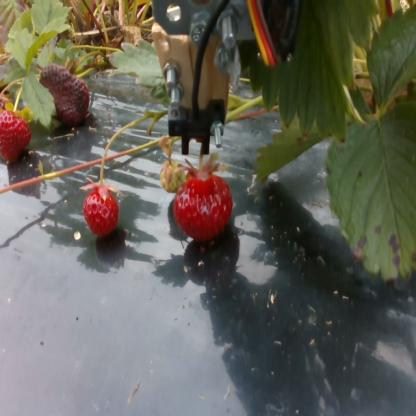ripe: (172, 168, 230, 245), (86, 187, 118, 239), (2, 104, 30, 160)
unripe: (162, 163, 181, 190)
